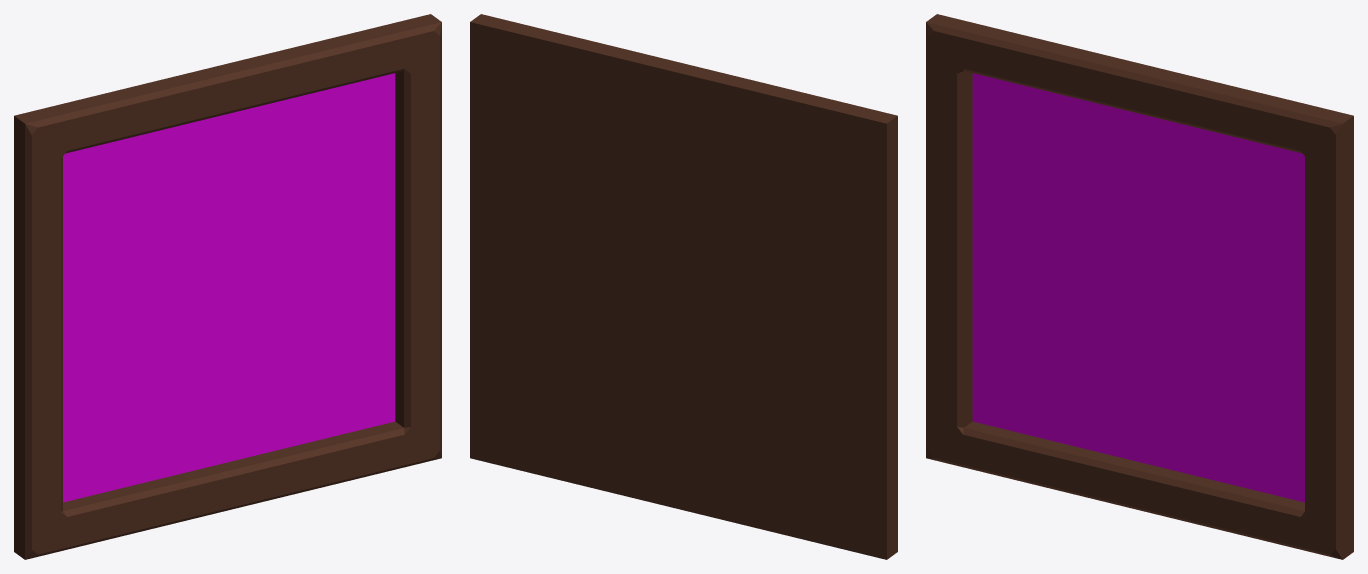
Rendered from framed_painting.fbx.
The picture shows the model from 3 angles, left to right: view 1: azimuth 30°, elevation 25°; view 2: azimuth 150°, elevation 25°; view 3: azimuth 330°, elevation 25°; orthographic projection.
Parts seen in each view (by area): view 1: Plane; view 2: Plane; view 3: Plane.
Part boxes in pixels (x1,y1,x2,y2): Plane: [14, 14, 441, 559]; Plane: [470, 14, 897, 559]; Plane: [926, 14, 1353, 559].
Bounding box in the file's own units: 11.23 × 200 × 200.
